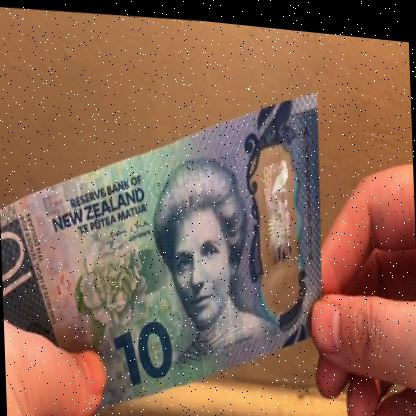10B: (260, 149, 300, 269)
